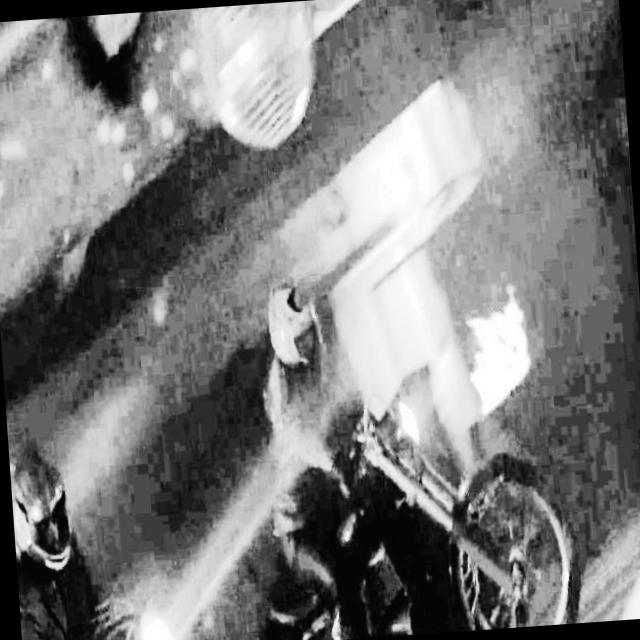Motorcycle: (215, 419, 640, 640)
